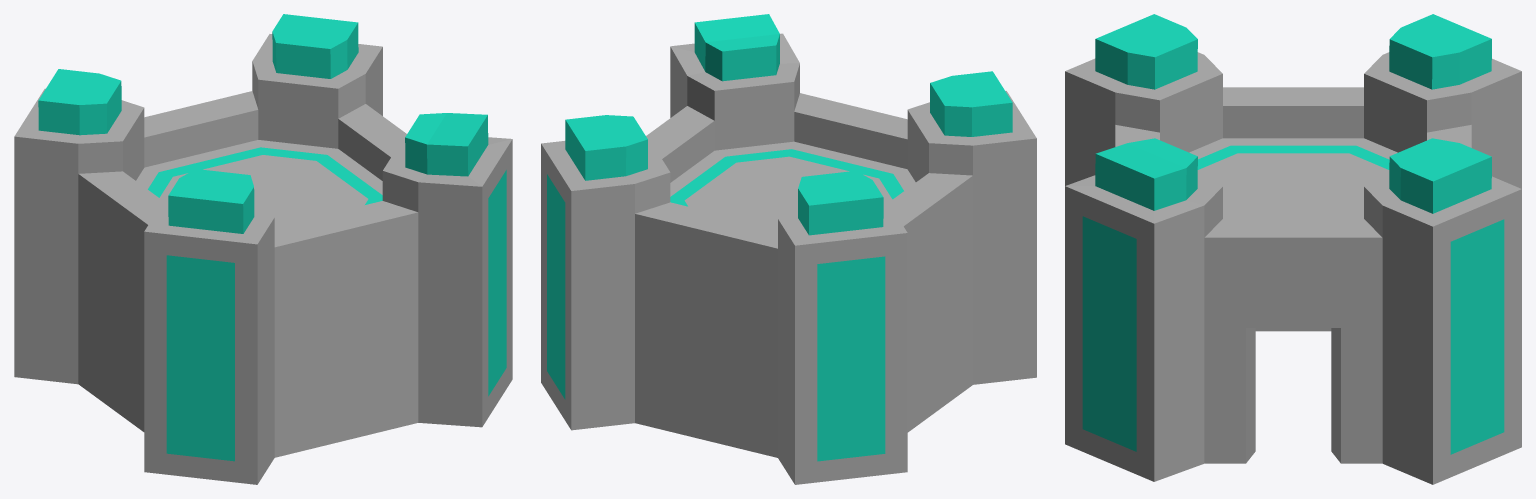
File: Warrior Tower lev 3.fbx
3 views of the same model, side by side, from view 1: azimuth 30°, elevation 25°; view 2: azimuth 150°, elevation 25°; view 3: azimuth 270°, elevation 25° (orthographic). The views are drawn at different scales.
Visible parts, largest first — view 1: Torre Wizzard.030; view 2: Torre Wizzard.030; view 3: Torre Wizzard.030.
Boxes of the visible parts, <box> form: Torre Wizzard.030: <box>14,14,512,484</box>; Torre Wizzard.030: <box>541,14,1036,484</box>; Torre Wizzard.030: <box>1065,14,1521,484</box>.
Bounding box in the file's own units: 19.24 × 13.64 × 19.24.
